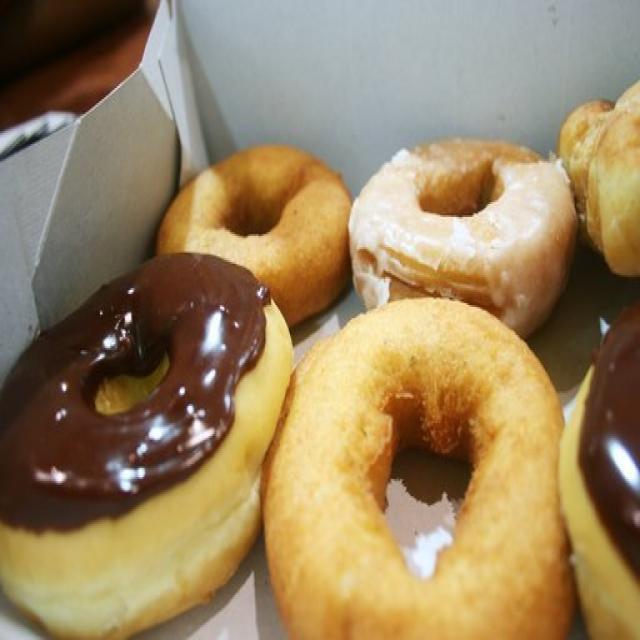Donuts: (9, 76, 640, 640)
